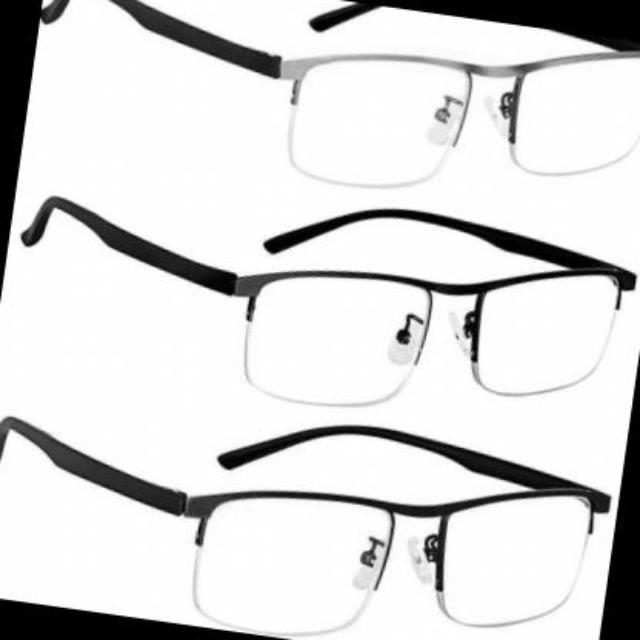glasses: (15, 195, 630, 407), (0, 416, 611, 629), (39, 10, 629, 182)
